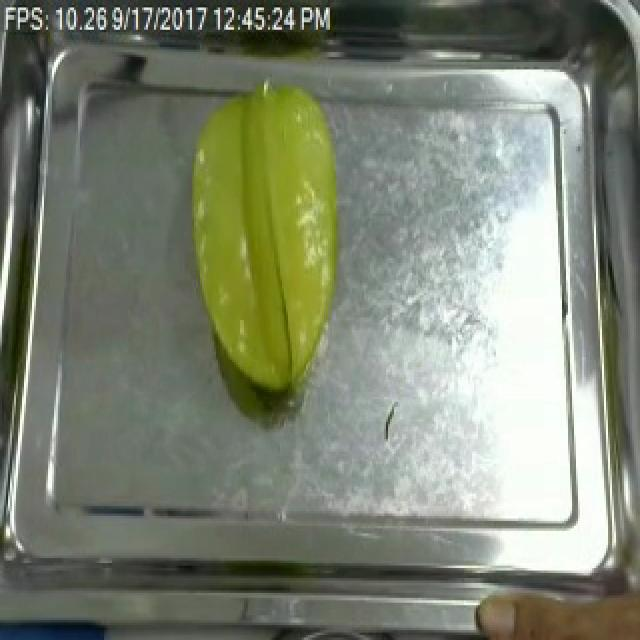fruit: (174, 72, 352, 409), (466, 565, 640, 640)
